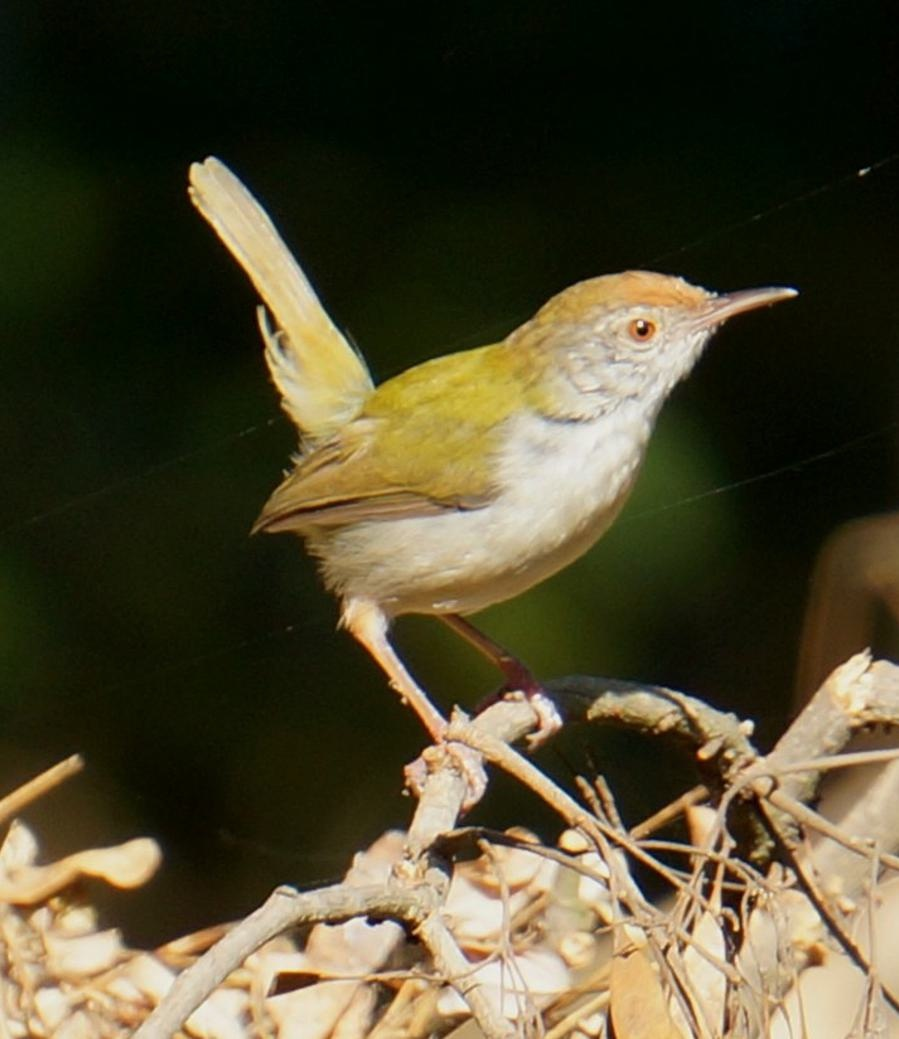tailorbird: (200, 164, 812, 756)
